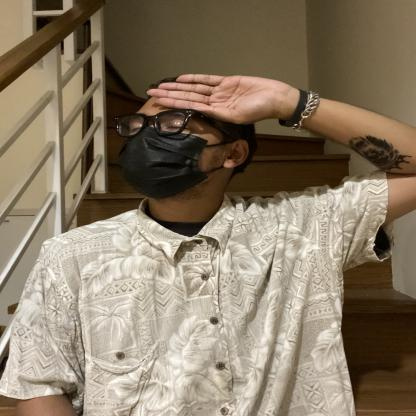Sick: (59, 48, 315, 197)
